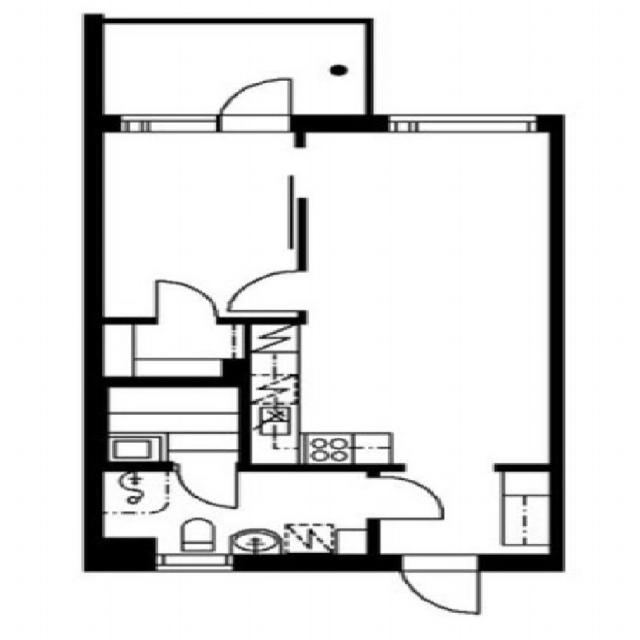door: (401, 554, 478, 619), (222, 72, 290, 132), (366, 476, 446, 518), (233, 271, 307, 311), (156, 279, 217, 324), (178, 462, 236, 506)
